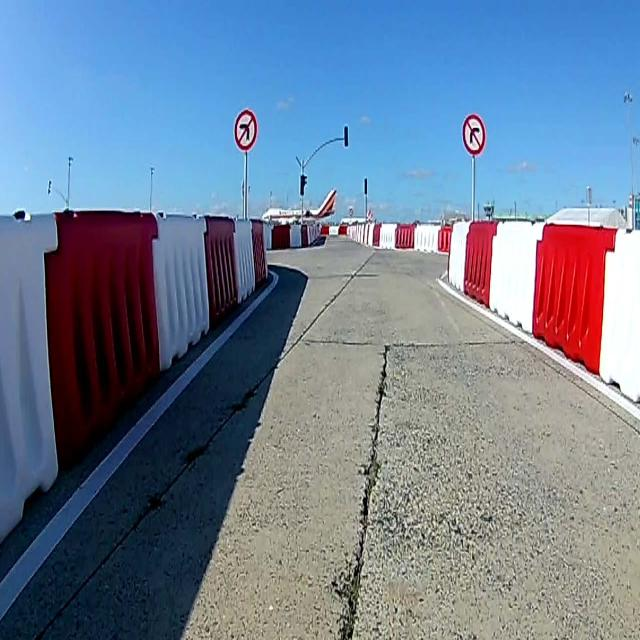sagadonulmez: (463, 115, 485, 154)
soladonulmez: (234, 110, 258, 150)
